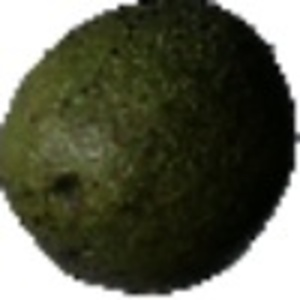abacate: (1, 3, 296, 294)
